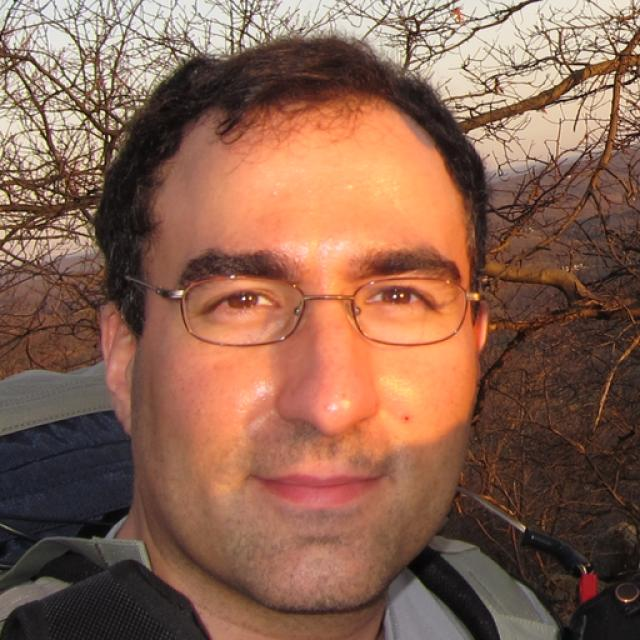Acne: (312, 397, 340, 418), (395, 410, 420, 431)
